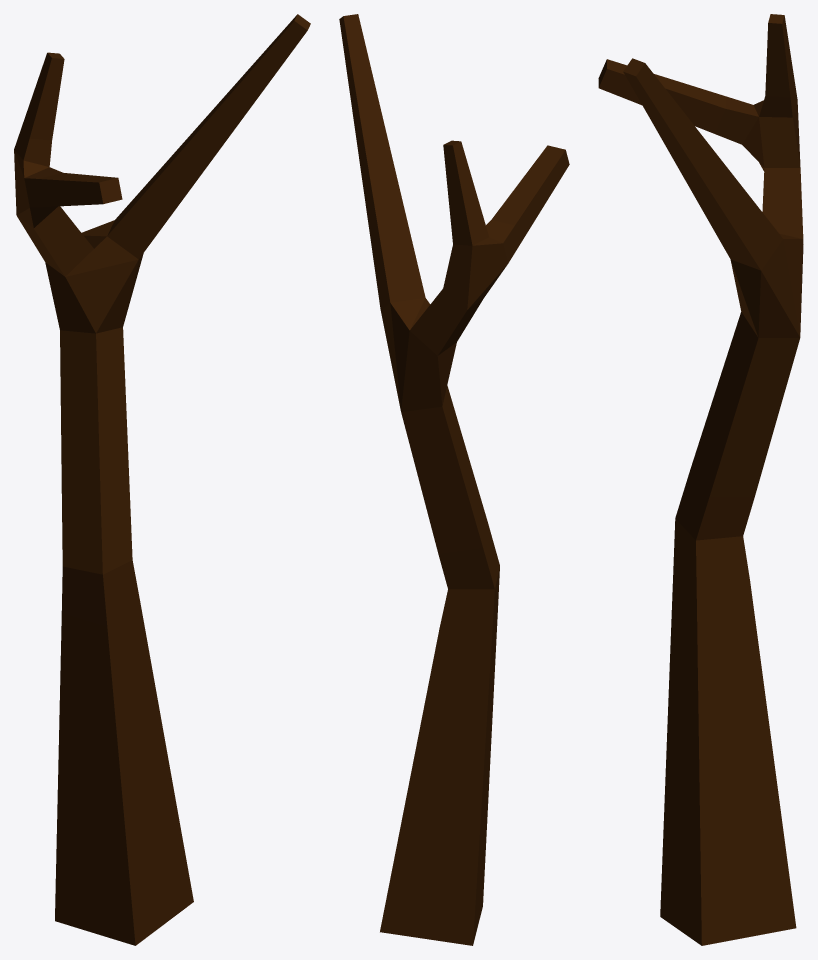
The model's file is Tree2.2.fbx.
The picture shows the model from 3 angles, left to right: view 1: azimuth 30°, elevation 25°; view 2: azimuth 150°, elevation 25°; view 3: azimuth 270°, elevation 25°; orthographic projection. The views are drawn at different scales.
Visible parts, largest first — view 1: Tree2.2; view 2: Tree2.2; view 3: Tree2.2.
Boxes of the visible parts, box(x1,y1,x2,y2) form: Tree2.2: box(14, 14, 310, 945); Tree2.2: box(339, 14, 569, 945); Tree2.2: box(598, 14, 803, 945).
Size of the model in its own units: 123 by 461 by 91.86.
